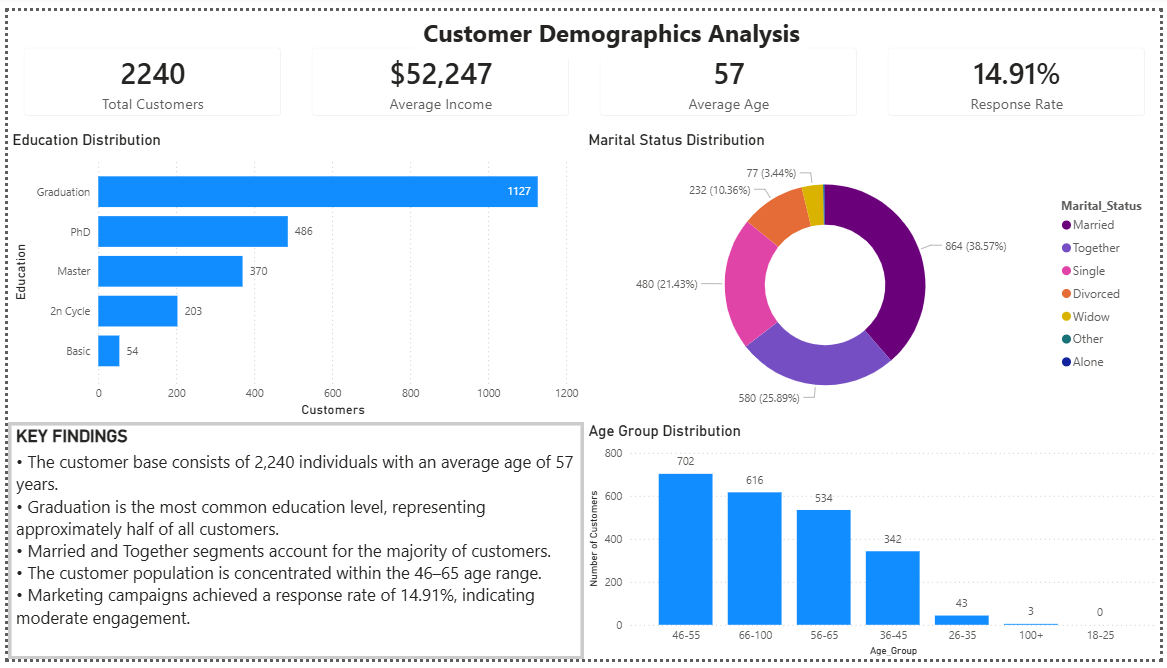

This screenshot's page, from the dashboard's own definition file:
{"tool":"powerbi","page":{"name":"Customer Demographics Analysis","canvas":[1280,720],"ordinal":1},"visuals":[{"type":"cardVisual","fields":{"Data":["validation_summary.Total Customers"]},"box":[0,24,320,110],"z":0},{"type":"cardVisual","fields":{"Data":["validation_summary.Average Income"]},"box":[320,24,320,110],"z":1000},{"type":"cardVisual","fields":{"Data":["validation_summary.Average Age"]},"box":[640,24,320,110],"z":2000},{"type":"cardVisual","fields":{"Data":["validation_summary.Response Rate"]},"box":[960,24,320,110],"z":3000},{"type":"clusteredBarChart","title":"Education Distribution","fields":{"Category":["education_distribution.Education"],"Y":["Sum(education_distribution.Count)"]},"box":[0,134,640,322],"z":4000},{"type":"donutChart","title":"Marital Status Distribution","fields":{"Category":["marital_status_distribution.Marital_Status"],"Y":["Sum(marital_status_distribution.Count)"]},"box":[640,134,640,322],"z":5000},{"type":"clusteredColumnChart","title":"Age Group Distribution","fields":{"Category":["age_group_distribution.Age_Group"],"Y":["Sum(age_group_distribution.Count)"]},"box":[640,456,640,264],"z":6000},{"type":"textbox","title":"KEY FINDINGS","box":[0,456,640,264],"z":7000},{"type":"textbox","box":[452,0,438,54],"z":8000}]}

Visuals, with their boxes in screenshot pixels (x1, y1, x2, y2), scaled from the page's 1280x720 canvas onto the 1167x668 screenshot:
cardVisual - validation_summary.Total Customers: <box>0,22,292,124</box>
cardVisual - validation_summary.Average Income: <box>292,22,584,124</box>
cardVisual - validation_summary.Average Age: <box>584,22,875,124</box>
cardVisual - validation_summary.Response Rate: <box>875,22,1166,124</box>
"Education Distribution" clusteredBarChart: <box>0,124,584,423</box>
"Marital Status Distribution" donutChart: <box>584,124,1166,423</box>
"Age Group Distribution" clusteredColumnChart: <box>584,423,1166,667</box>
"KEY FINDINGS" textbox: <box>0,423,584,667</box>
textbox: <box>412,0,811,50</box>
